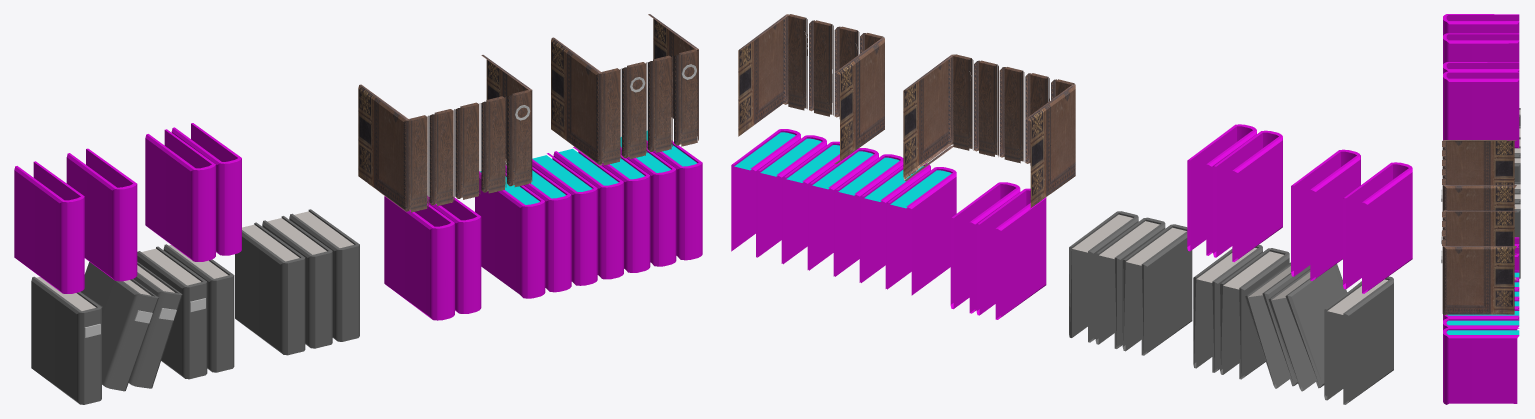
The model's file is Block_Book_EKC.fbx.
The picture shows the model from 3 angles, left to right: view 1: azimuth 30°, elevation 25°; view 2: azimuth 150°, elevation 25°; view 3: azimuth 270°, elevation 25°; orthographic projection. The views are drawn at different scales.
Parts seen in each view (by area): view 1: Block_Book_EKC; view 2: Block_Book_EKC; view 3: Block_Book_EKC.
Boxes of the visible parts, x1,y1,x2,y2 form: Block_Book_EKC: (14,14,702,404); Block_Book_EKC: (731,14,1412,404); Block_Book_EKC: (1441,14,1520,404).
Size of the model in its own units: 252 by 78.35 by 35.95.
